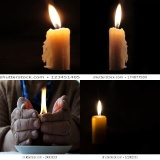fire: (46, 2, 63, 26), (39, 86, 49, 114), (113, 1, 123, 27), (97, 99, 102, 115)
